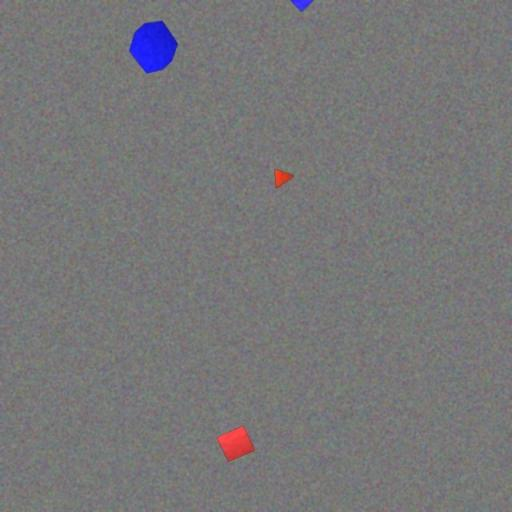RED_SQUARE: (216, 426, 255, 462)
